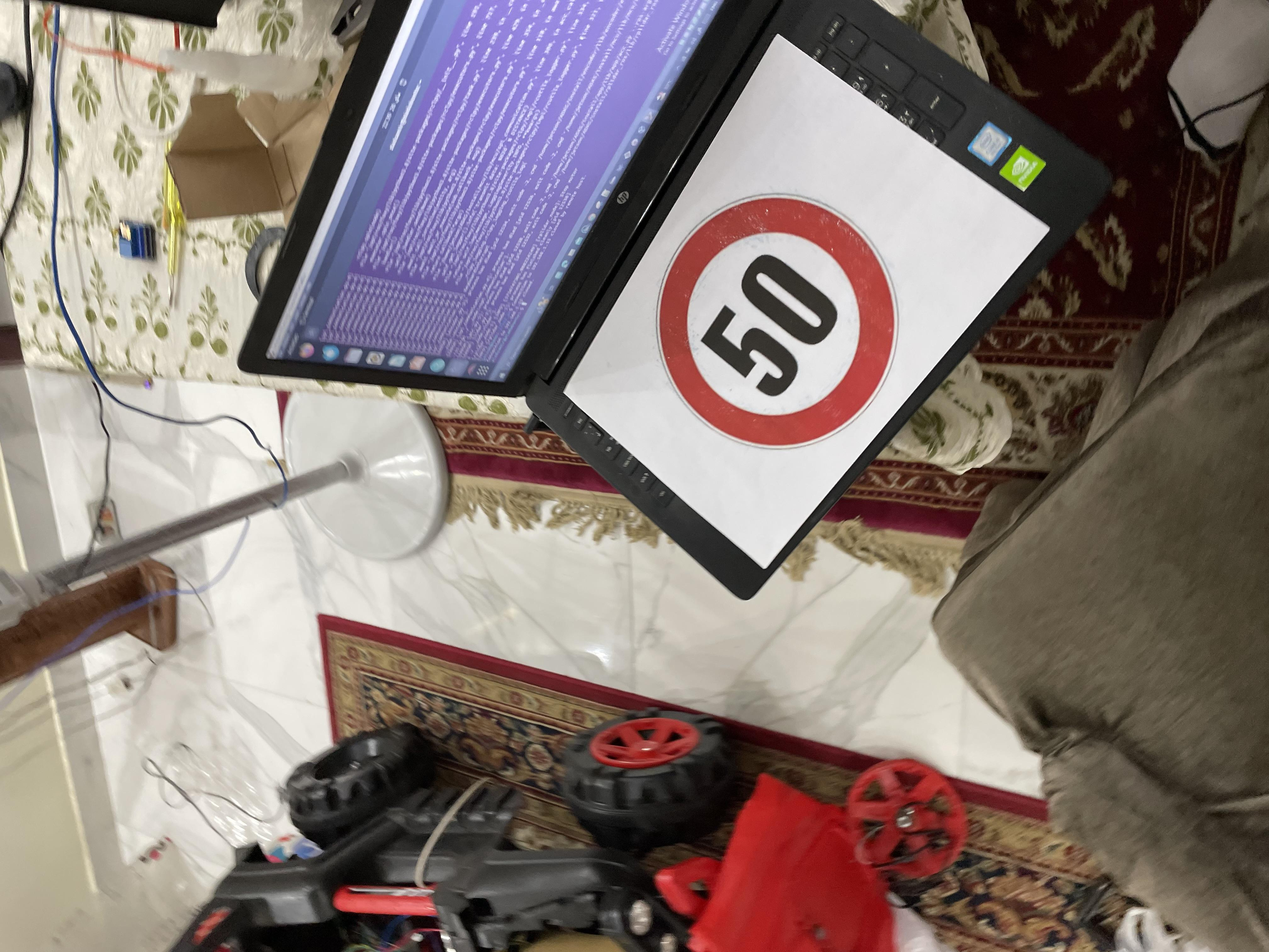50-Speed: (668, 484, 1019, 674)
